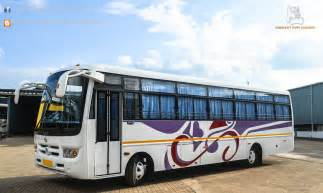bus: (33, 68, 295, 182)
